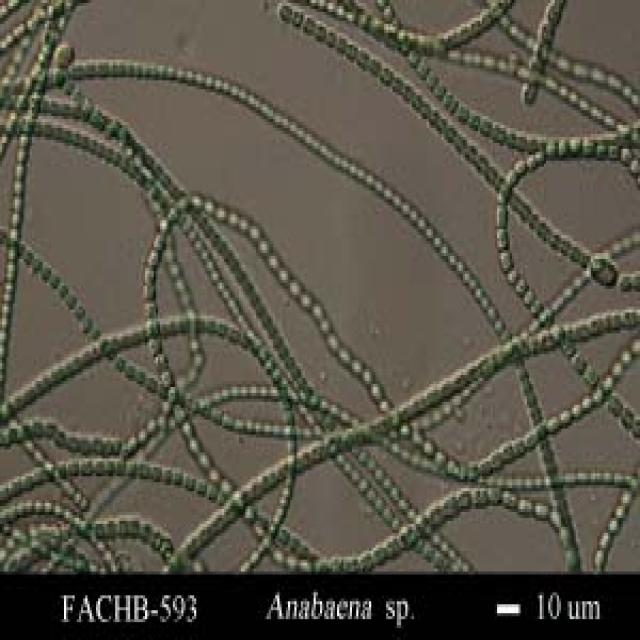Blue Green Algae: (586, 253, 618, 286), (442, 488, 458, 521), (540, 3, 565, 24), (424, 384, 444, 408), (538, 18, 554, 45), (618, 402, 634, 429), (424, 500, 442, 524), (486, 482, 504, 506), (456, 98, 472, 125), (360, 366, 380, 387), (495, 202, 510, 230), (139, 282, 158, 304), (522, 78, 538, 104), (11, 193, 30, 214), (264, 247, 278, 274), (337, 345, 352, 369), (369, 381, 384, 405), (497, 247, 512, 271), (522, 426, 540, 446), (544, 410, 559, 434), (582, 366, 602, 384), (399, 521, 414, 545), (369, 542, 388, 560), (160, 462, 173, 488), (501, 438, 514, 464), (472, 482, 486, 506), (504, 488, 518, 512), (518, 497, 534, 518), (181, 419, 194, 444), (570, 348, 582, 375), (162, 366, 177, 387), (128, 515, 141, 539), (559, 137, 572, 161), (456, 482, 469, 506), (516, 125, 529, 149), (288, 276, 299, 304), (145, 334, 162, 352), (493, 229, 510, 247), (536, 500, 550, 521), (10, 160, 28, 176), (6, 212, 22, 230), (486, 450, 502, 468), (298, 12, 314, 30), (506, 122, 518, 146), (504, 164, 516, 188), (326, 328, 337, 354), (143, 265, 156, 286), (514, 274, 527, 295), (478, 110, 491, 131), (491, 119, 504, 140), (145, 318, 160, 336), (196, 452, 211, 470), (30, 464, 45, 482), (66, 458, 81, 476), (544, 140, 559, 158), (275, 3, 290, 21), (418, 54, 429, 78), (152, 232, 166, 250), (156, 354, 170, 372), (184, 470, 196, 491), (56, 280, 68, 300), (248, 217, 258, 241), (145, 247, 158, 265), (145, 298, 158, 316), (79, 456, 92, 474), (92, 456, 105, 474), (194, 479, 207, 497), (512, 438, 525, 456), (426, 68, 439, 86), (514, 157, 527, 175), (117, 518, 128, 539), (15, 146, 30, 161), (75, 300, 85, 322), (312, 300, 322, 322), (13, 176, 23, 197), (137, 458, 147, 479), (582, 137, 596, 152), (190, 438, 200, 458), (56, 456, 66, 476), (171, 468, 181, 488), (380, 60, 390, 80), (113, 458, 124, 476), (559, 408, 570, 426), (324, 26, 335, 44), (277, 265, 286, 286), (311, 18, 320, 39), (105, 518, 115, 536), (350, 354, 360, 372), (572, 399, 582, 417), (553, 506, 561, 527), (292, 6, 301, 24), (107, 456, 115, 476), (354, 48, 365, 62), (151, 462, 160, 479), (126, 458, 134, 476), (299, 288, 307, 306), (572, 137, 580, 155), (369, 56, 378, 72), (258, 238, 267, 253), (337, 30, 344, 48), (318, 316, 326, 330), (32, 256, 38, 274), (40, 262, 47, 277)
